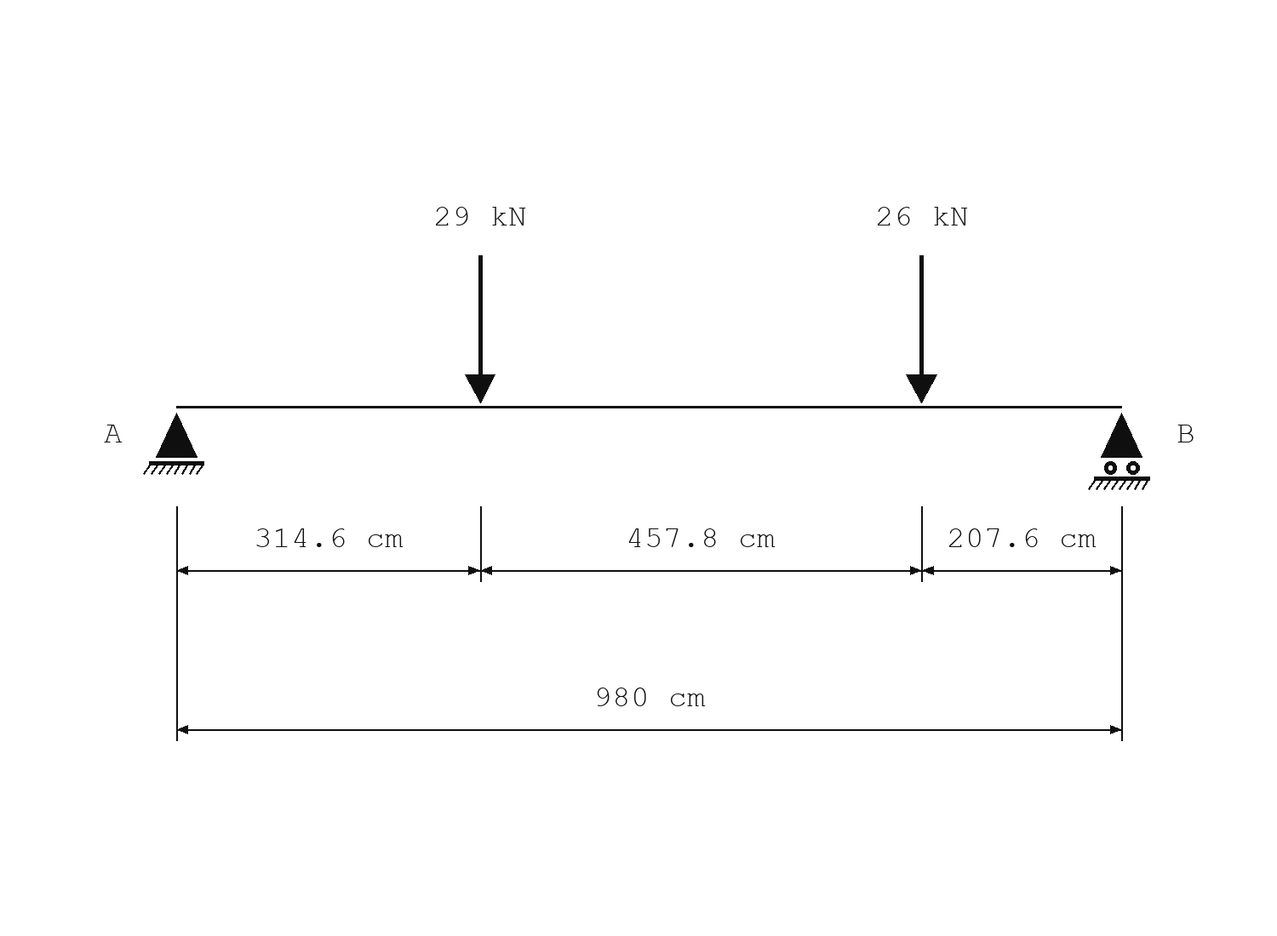pin_support: (143, 413, 204, 475)
point_load: (906, 255, 937, 403), (465, 255, 495, 403)
roller_support: (1088, 413, 1150, 490)
